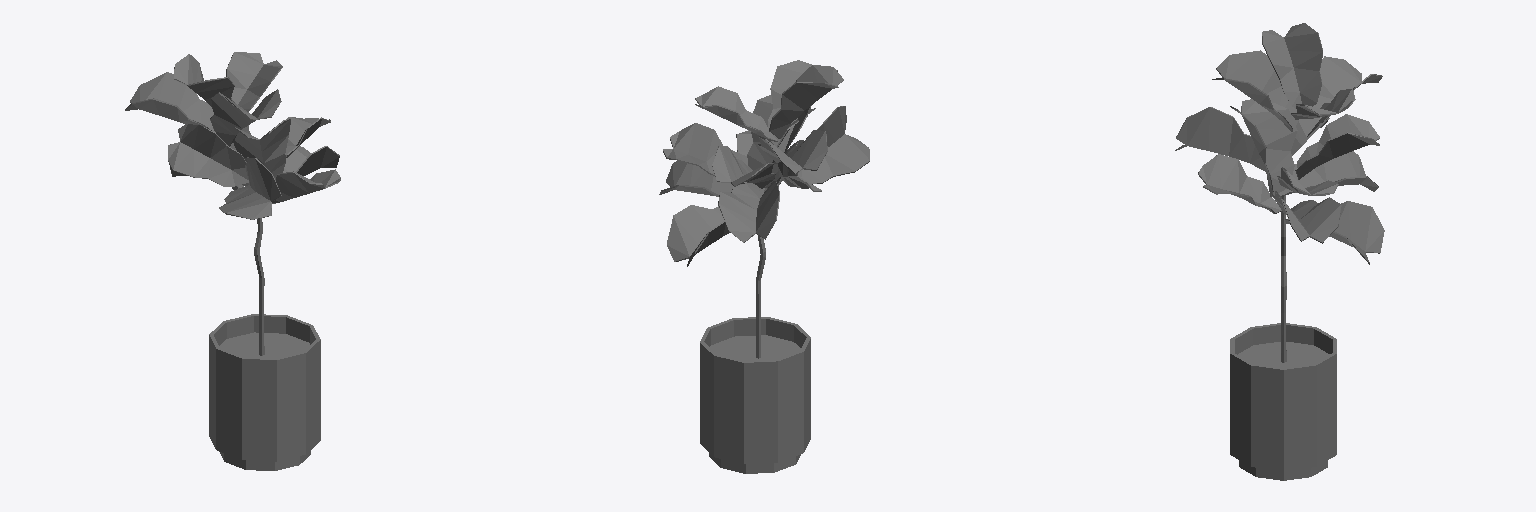
File: FiddleleafFigPottedPlant.obj
3 views of the same model, side by side, from view 1: azimuth 30°, elevation 25°; view 2: azimuth 150°, elevation 25°; view 3: azimuth 270°, elevation 25° (orthographic).
Visible parts, largest first — view 1: FiddleleafFigPottedPlant_mesh; view 2: FiddleleafFigPottedPlant_mesh; view 3: FiddleleafFigPottedPlant_mesh.
Part boxes in pixels (x1,y1,x2,y2): FiddleleafFigPottedPlant_mesh: (125,52,340,470); FiddleleafFigPottedPlant_mesh: (659,60,869,473); FiddleleafFigPottedPlant_mesh: (1175,23,1384,480).
Size of the model in its own units: 4.3 by 8.95 by 4.25.